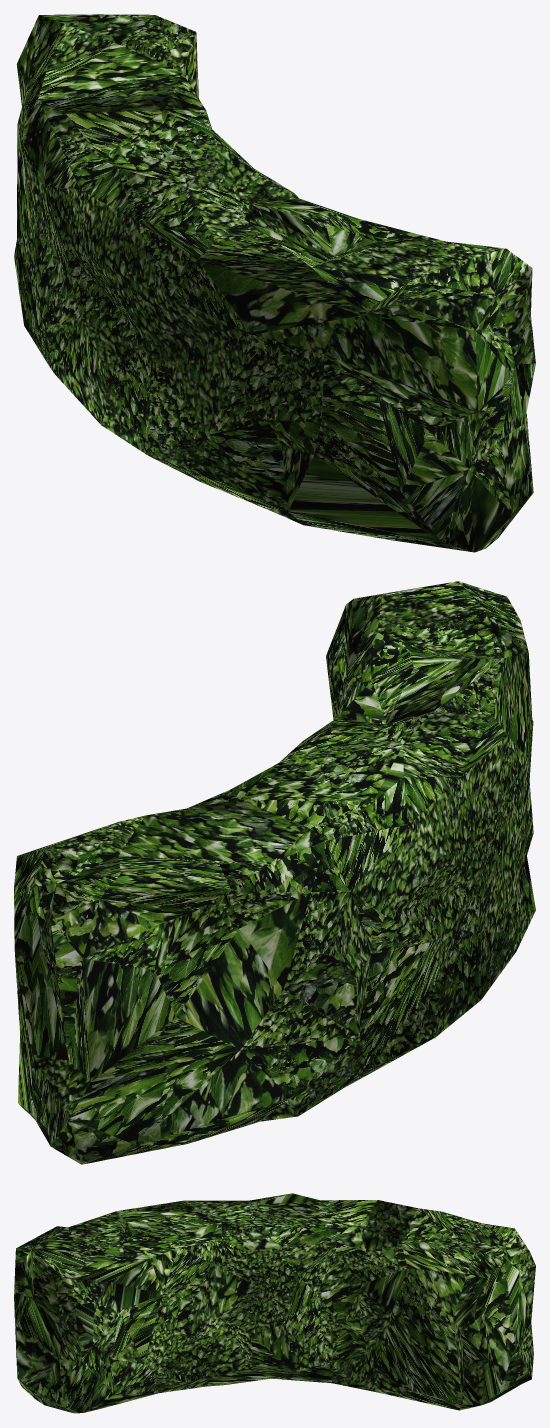
The model's file is Arbusto.obj.
3 renders of one model, top to bottom at view 1: azimuth 30°, elevation 25°; view 2: azimuth 150°, elevation 25°; view 3: azimuth 270°, elevation 25°, orthographic. The views are drawn at different scales.
Parts seen in each view (by area): view 1: ChamferBox03; view 2: ChamferBox03; view 3: ChamferBox03.
Boxes of the visible parts, x1,y1,x2,y2 form: ChamferBox03: [14, 14, 535, 552]; ChamferBox03: [14, 581, 535, 1164]; ChamferBox03: [14, 1193, 535, 1413].
Size of the model in its own units: 1.51 by 1.44 by 4.17.
